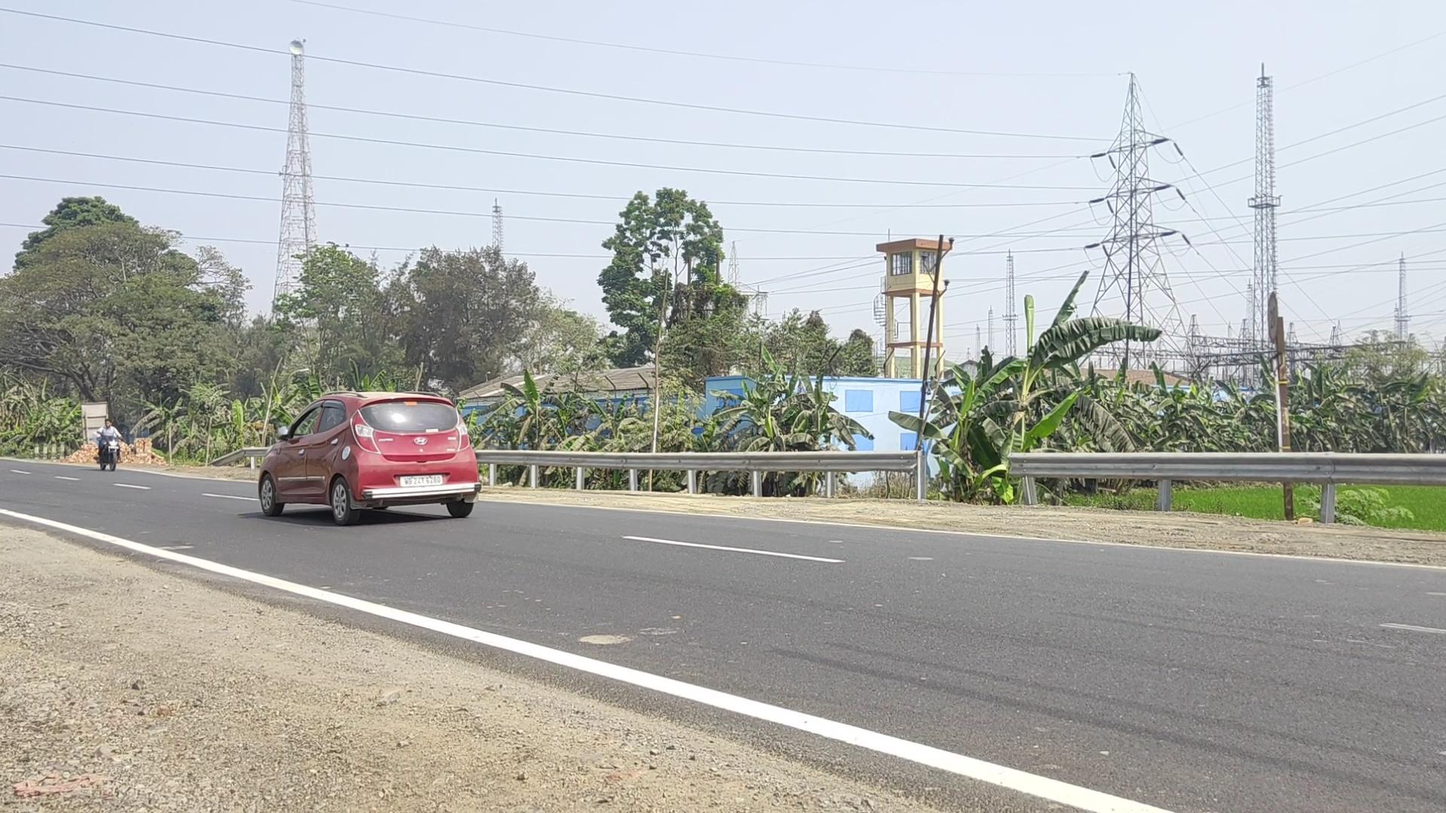bike: (95, 419, 124, 471)
car: (258, 391, 481, 525)
